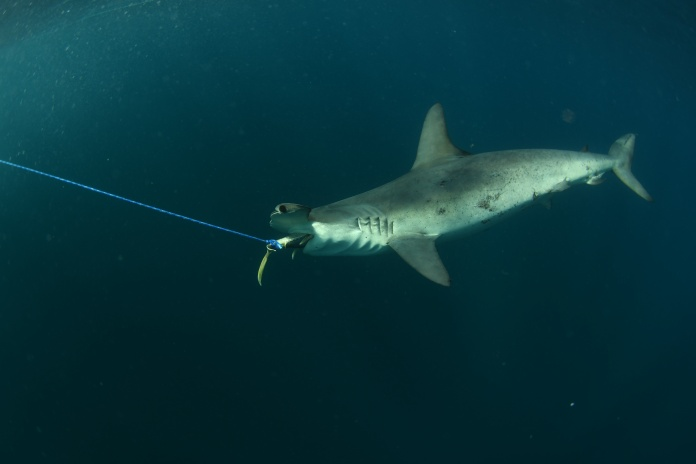Hammer: (224, 82, 686, 311)
